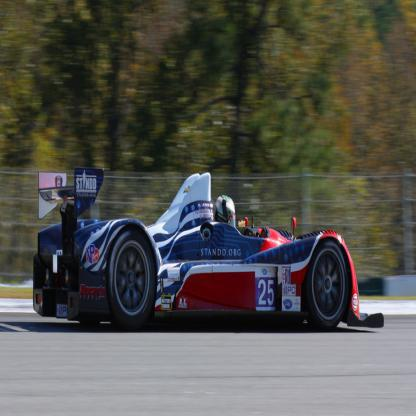car: (37, 175, 372, 327)
